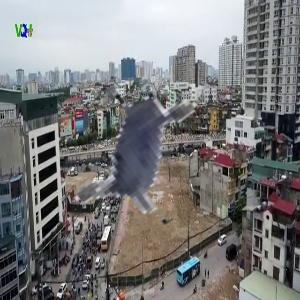drone: (23, 31, 263, 271)
